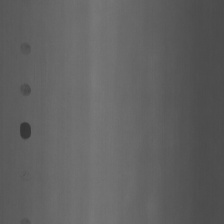oil_spot: (18, 121, 32, 143), (18, 79, 31, 99), (19, 40, 31, 55)
